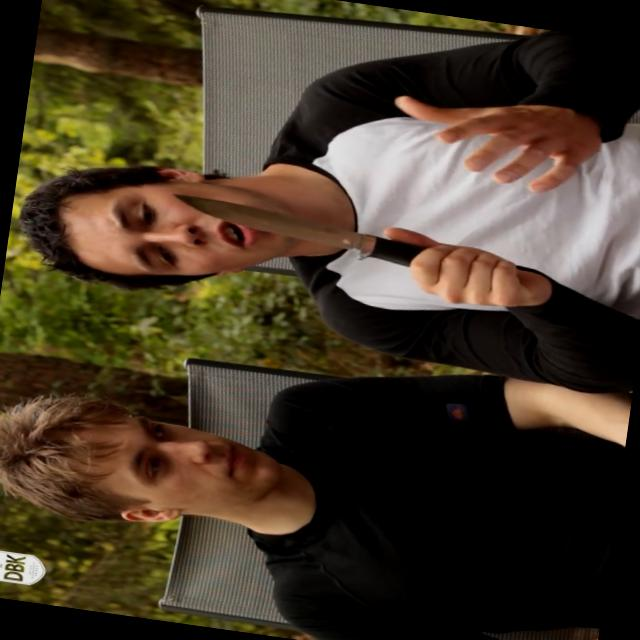knife: (154, 187, 538, 315)
